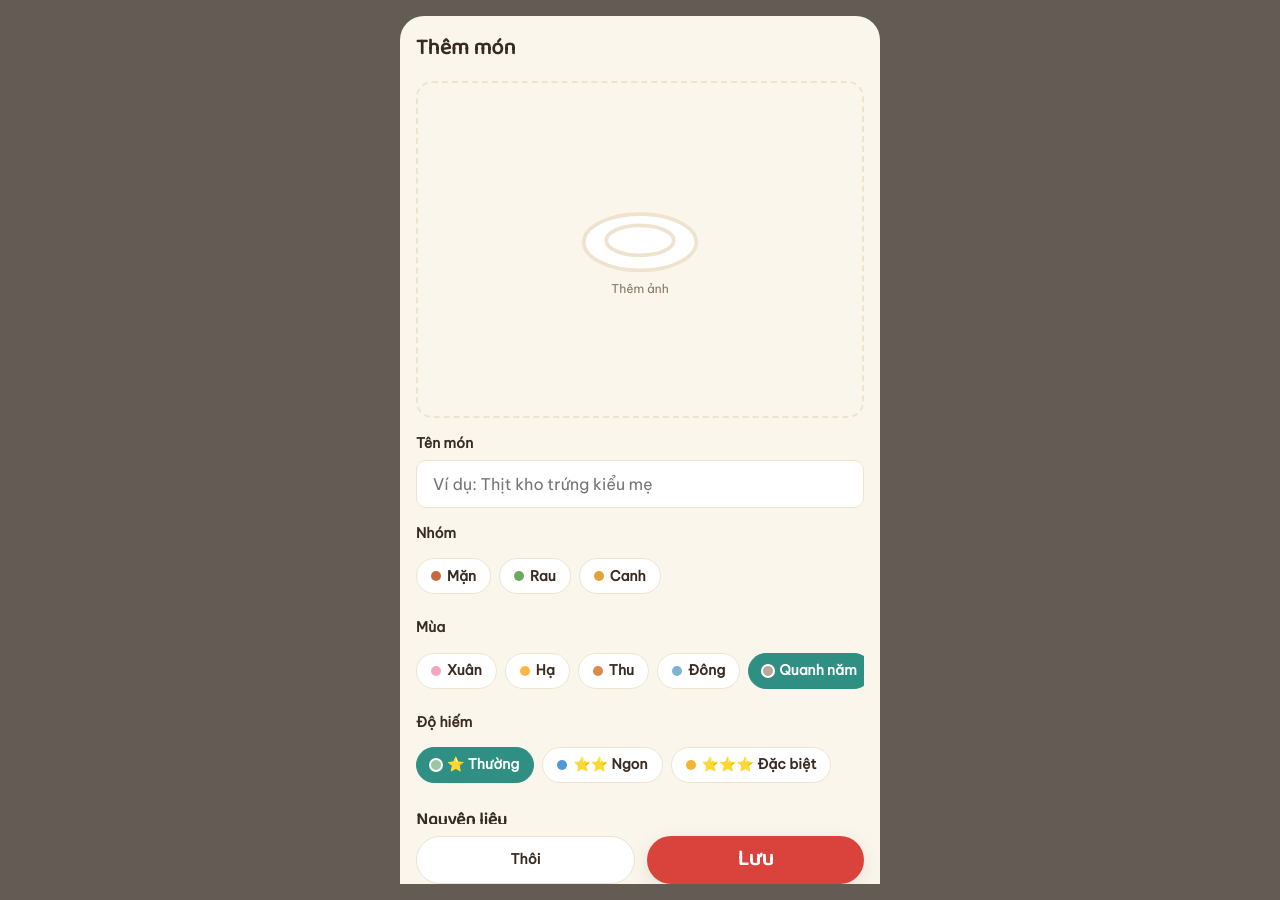
Test: ItemEditor › Esc khi đang hỏi "Bỏ thay đổi?" là Ở lại; Ở lại đưa focus về ô Tên
The width and height of the screenshot is (1280, 900).
In the field labelled "Tên món": (640, 484) x1=416 y1=460 x2=864 y2=508, type "x"
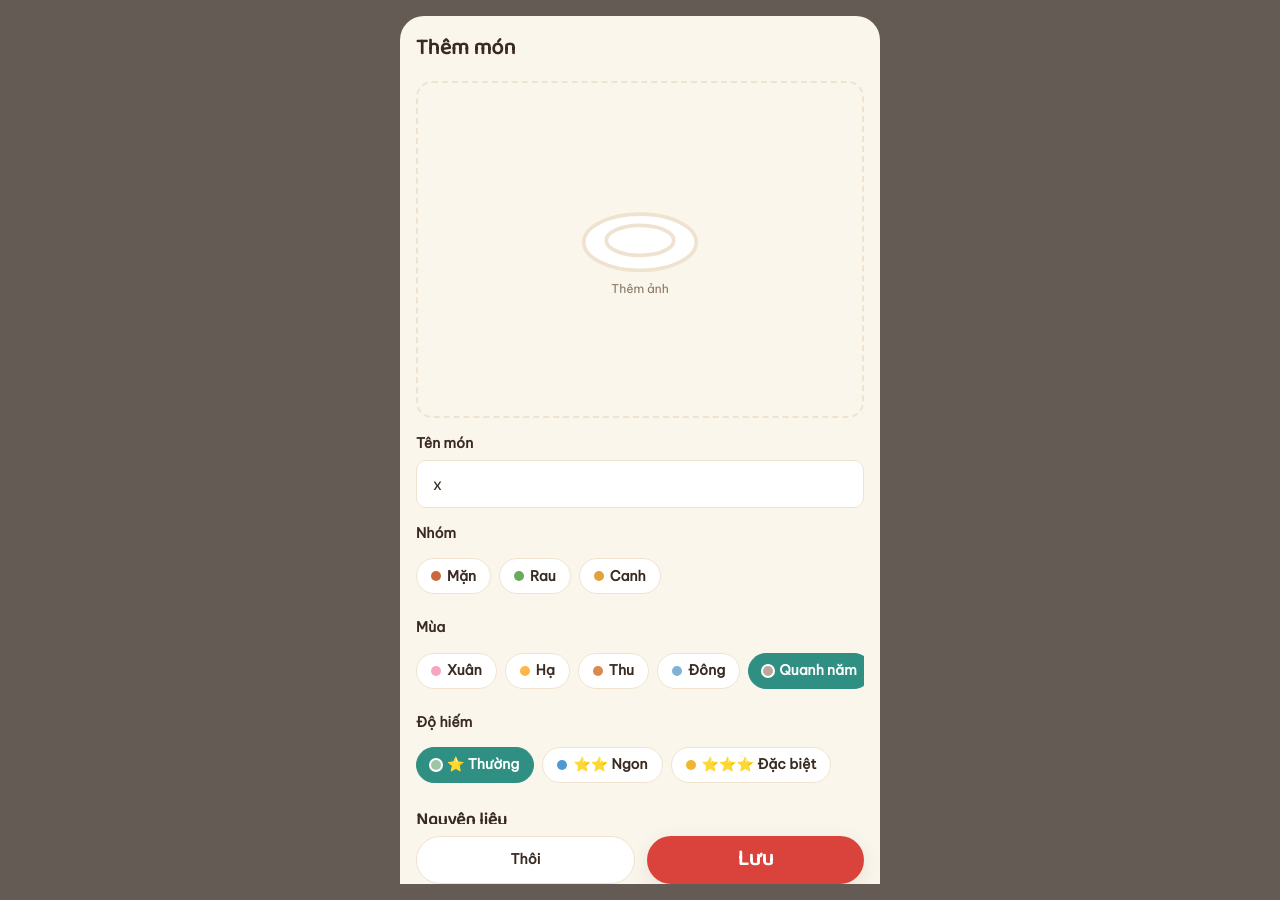
Press Escape
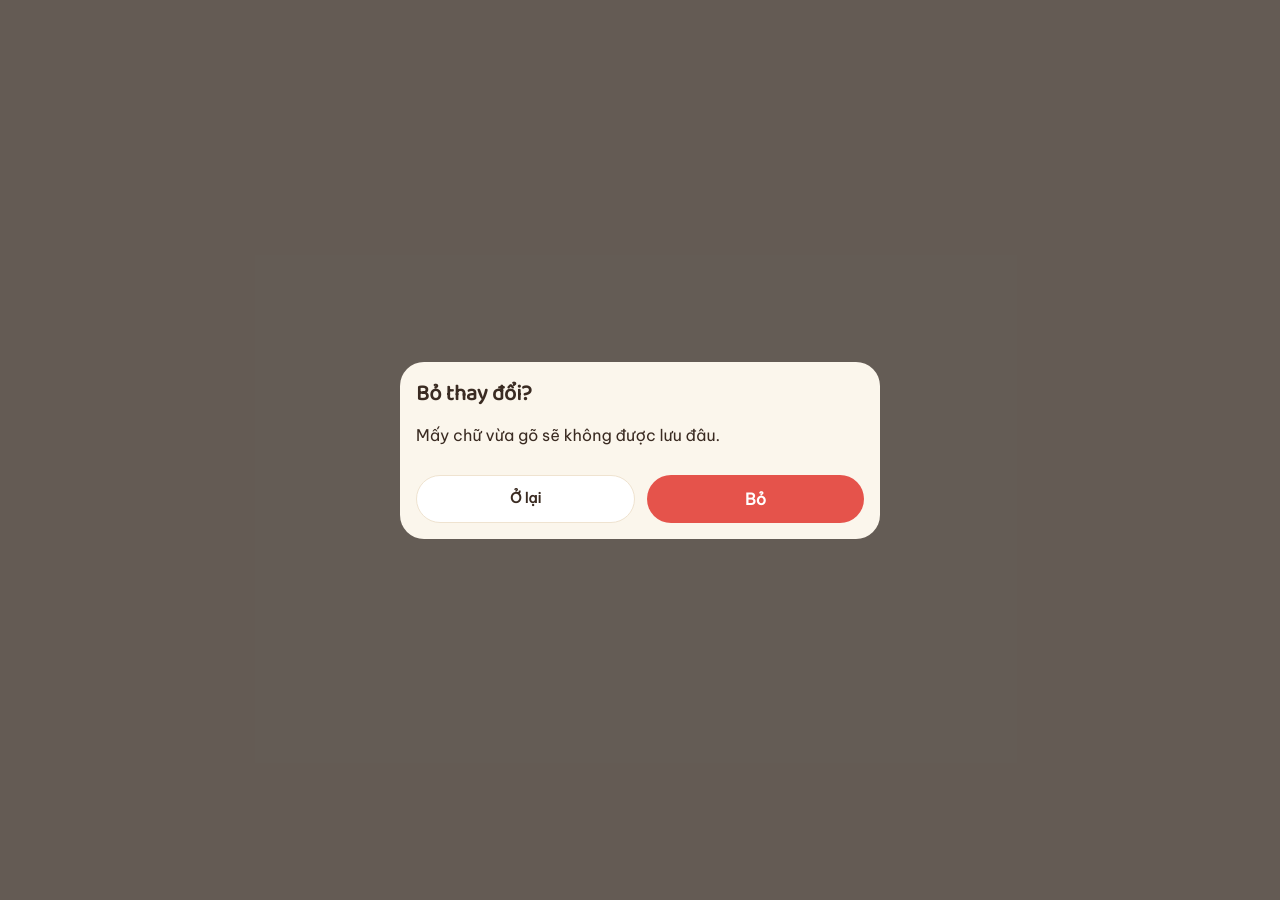
Check: the dialog is shown, box x1=416 y1=378 x2=864 y2=522
Press Escape
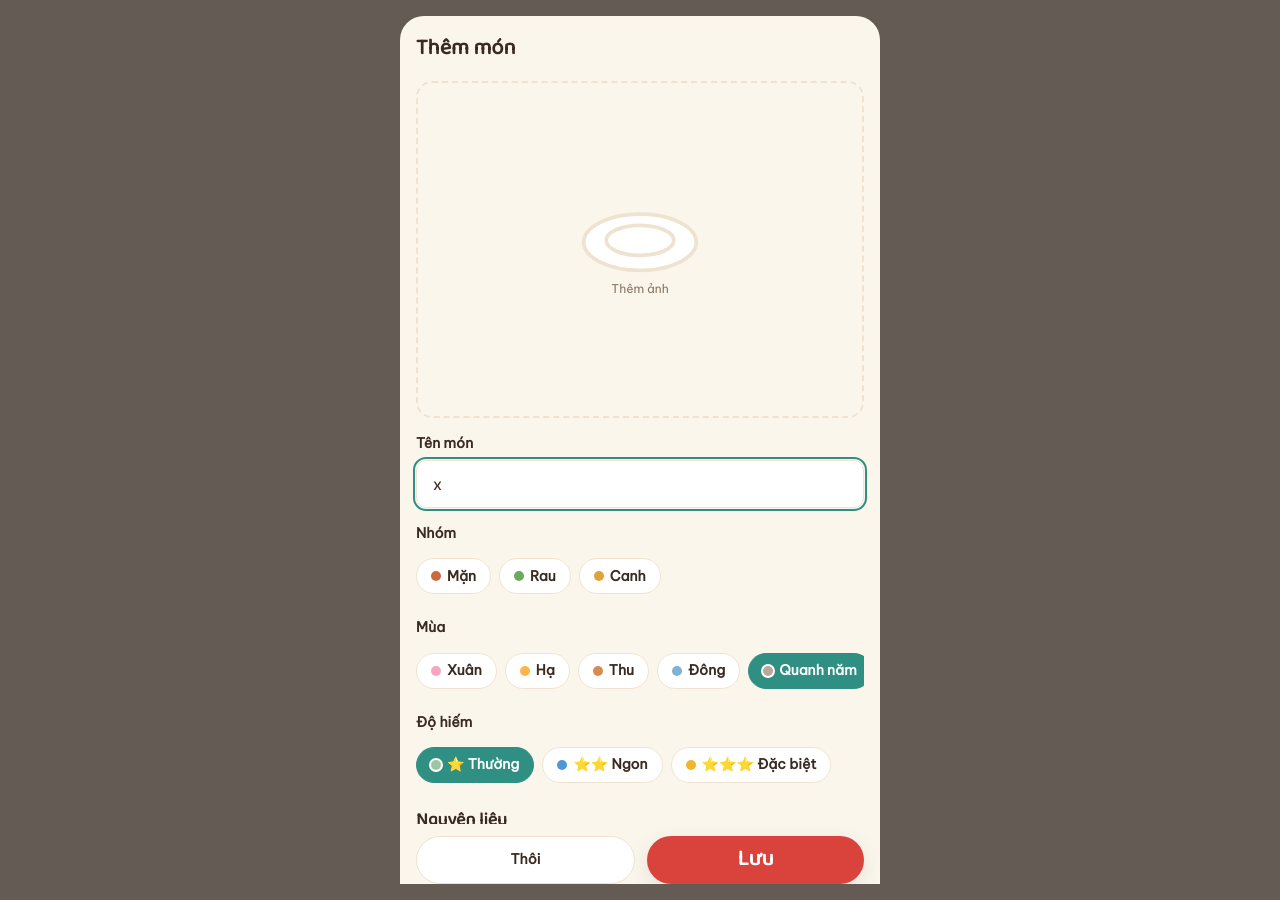
Check: the dialog "Bỏ thay đổi? Mấy chữ vừa gõ sẽ không được lưu đâu. Ở lại Bỏ" is gone
